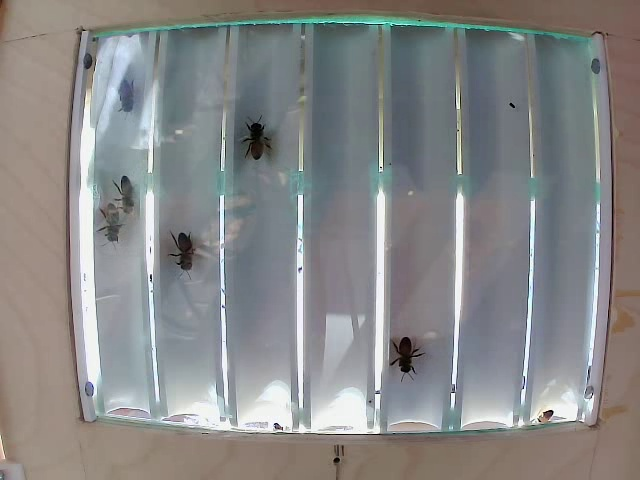bee: (114, 73, 162, 123), (164, 219, 206, 274), (116, 165, 154, 221), (387, 335, 423, 389), (243, 112, 275, 169), (93, 203, 125, 249)
